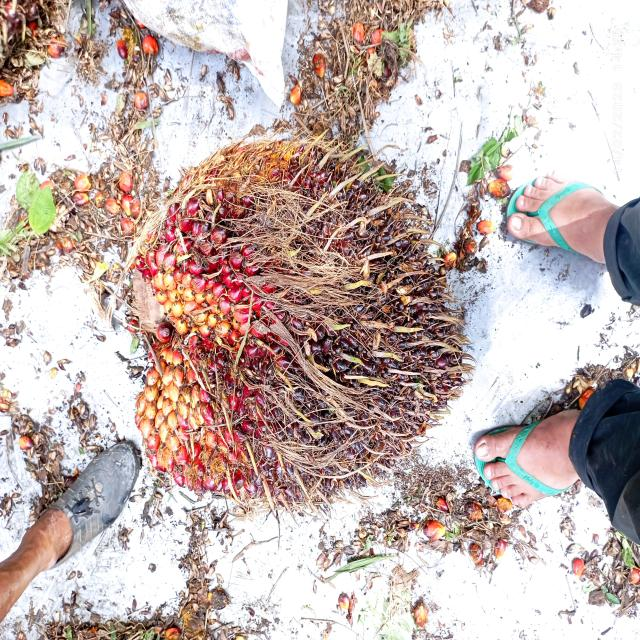fraksi 1: (110, 107, 464, 544)
